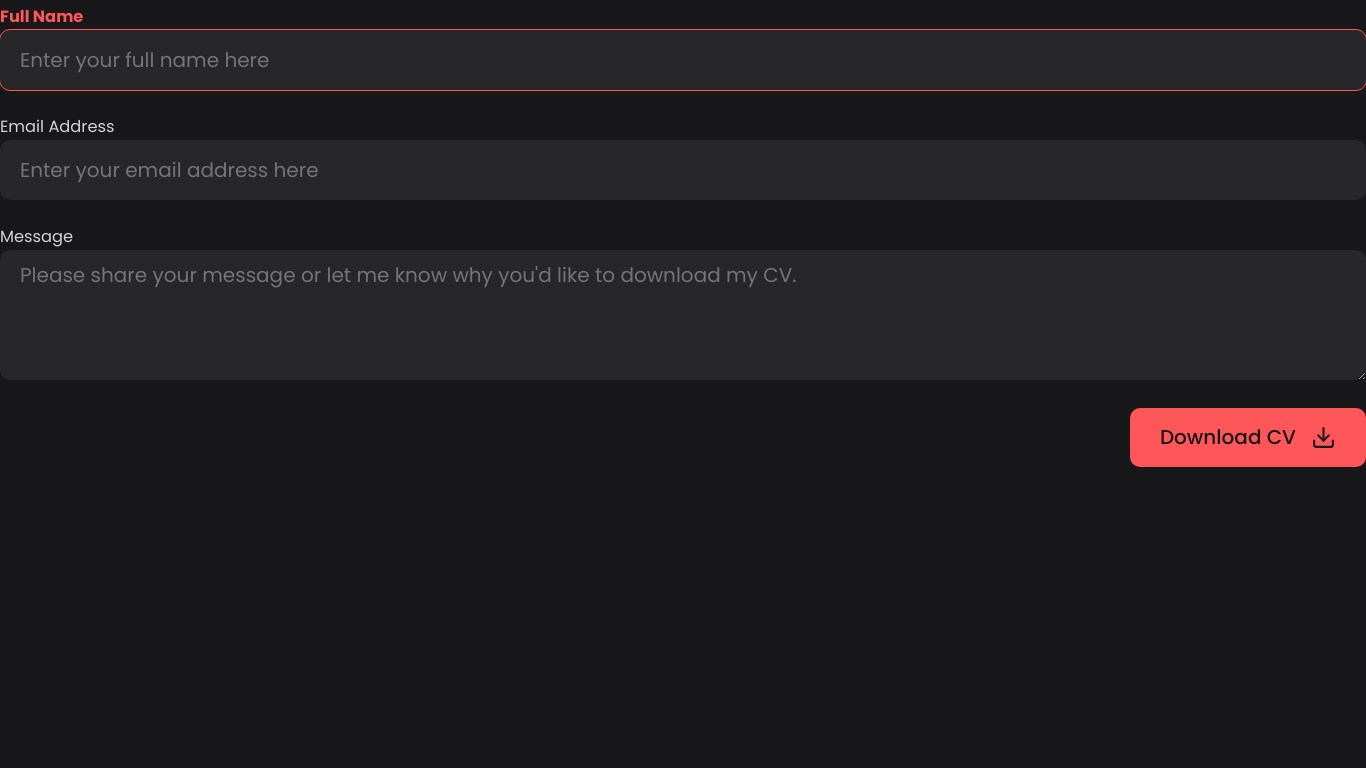
Test: <DownloadReasonForm/> › shows success banner after successful submission and close the dialog
Type "John Doe" into the field labelled "Full Name" at (683, 60), box [0,30,1365,90]
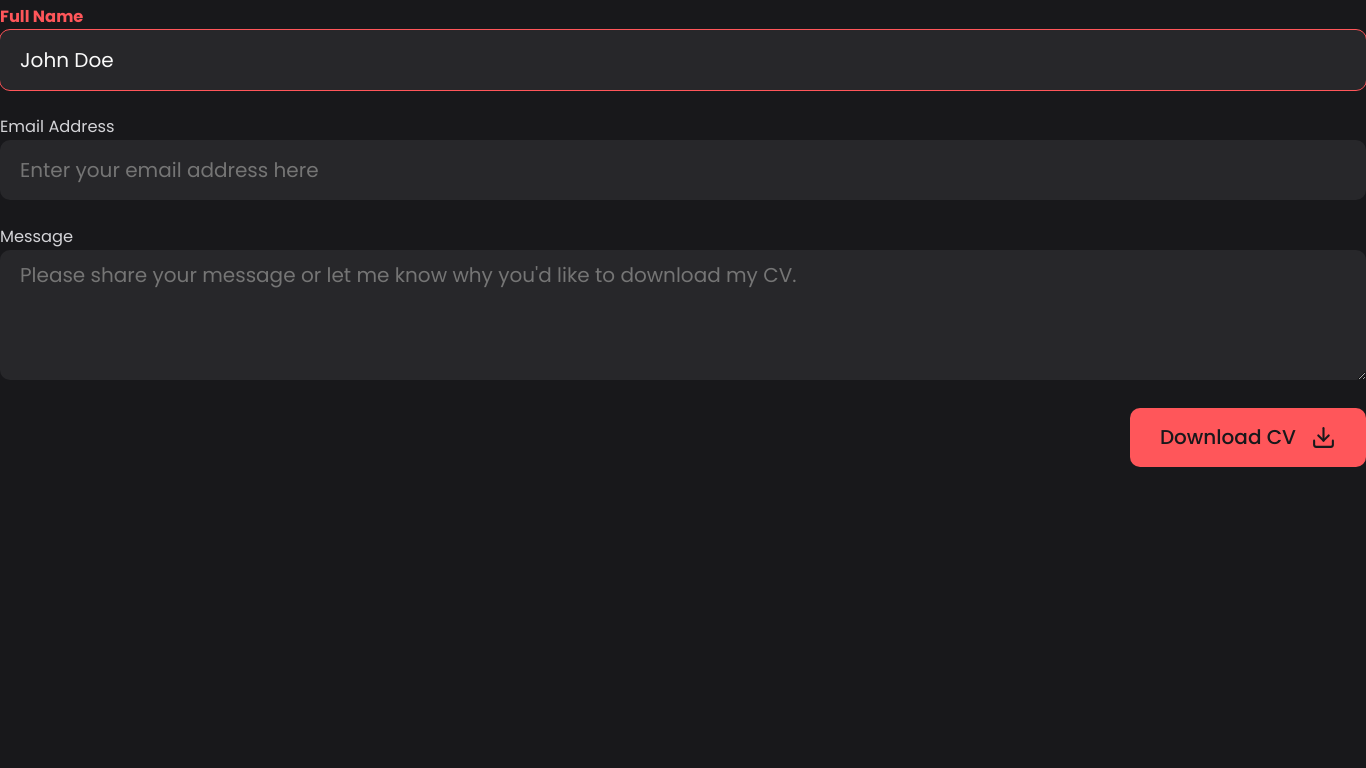
Type "john@example.com" into the field labelled "Email Address" at (683, 170), box [0,140,1365,200]
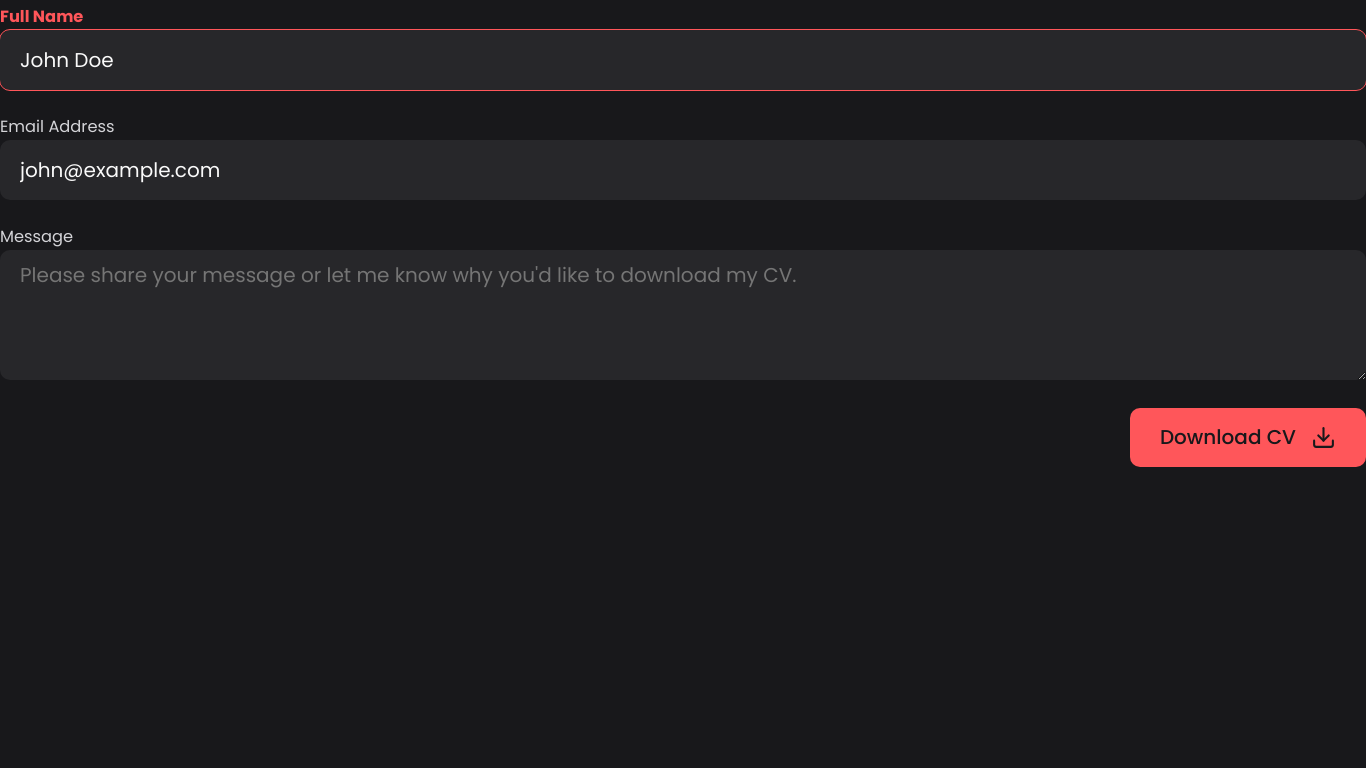
Replace the text in the text box labelled "Message" with "Hello, world!" at (683, 315), box [0,250,1365,380]
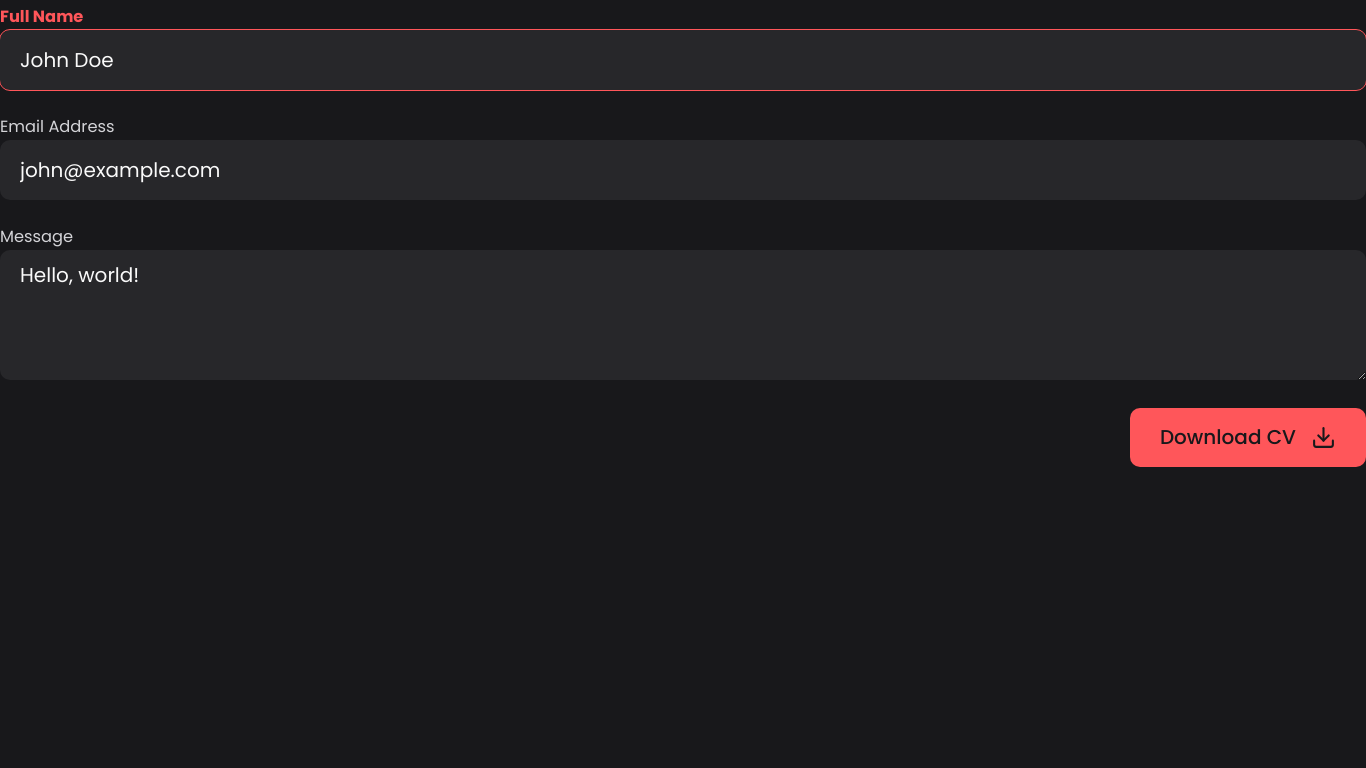
Click the button "Download CV" at (1248, 438), box [1130,408,1365,467]
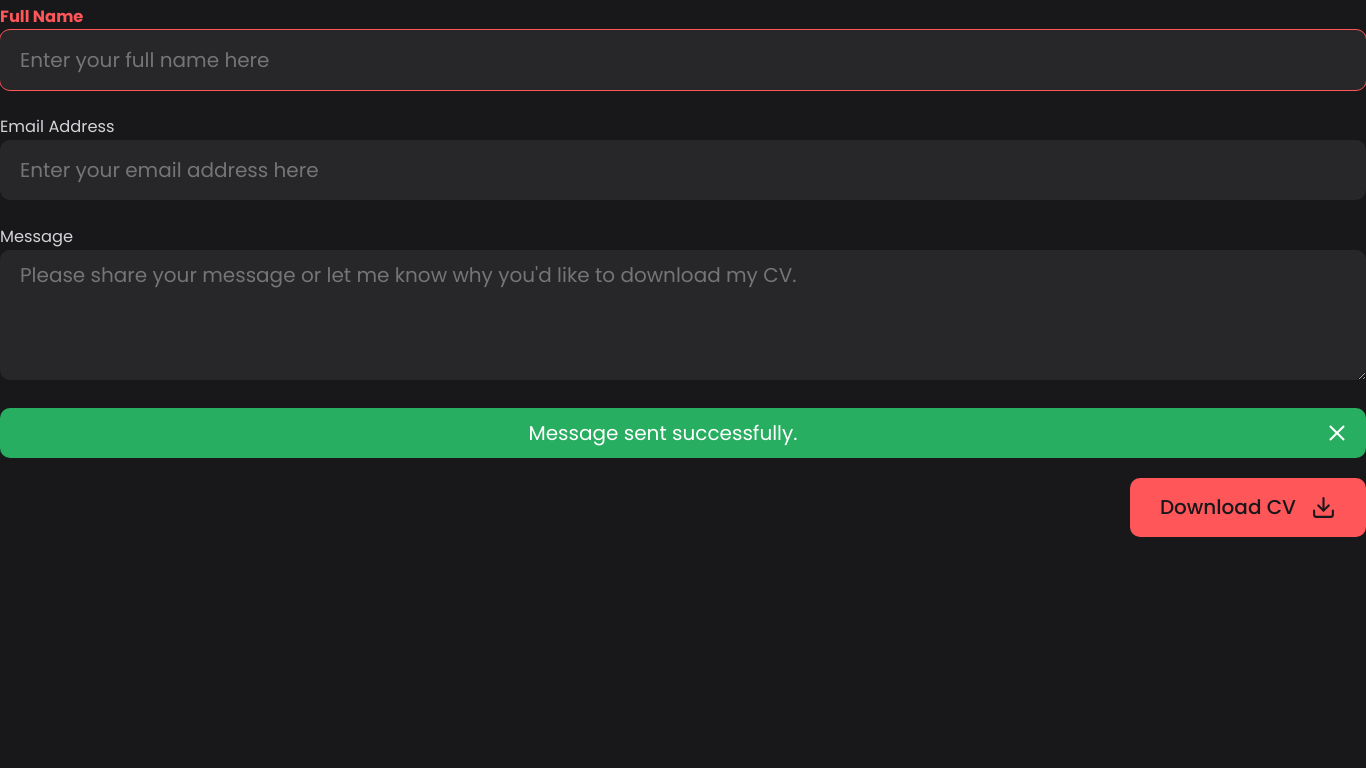
Check: the dialog with test id "banner" is shown, box [0,408,1365,458]
Check: the dialog with test id "banner" shows "Message sent successfully", box [528,419,798,447]
